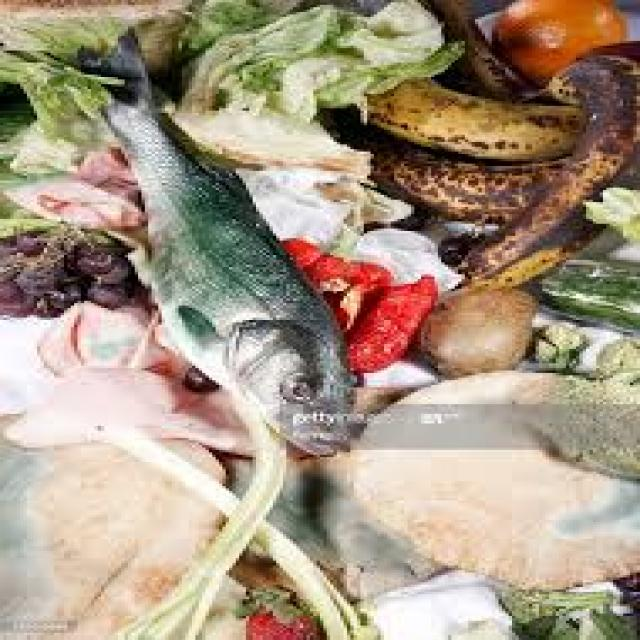organic waste: (74, 26, 347, 450), (344, 366, 636, 594), (0, 412, 226, 638), (158, 0, 462, 166), (118, 438, 357, 637), (451, 50, 637, 284), (0, 296, 249, 450), (323, 113, 573, 221), (3, 363, 266, 445), (340, 77, 583, 154), (0, 46, 111, 176), (417, 0, 552, 103), (0, 0, 202, 67), (344, 568, 508, 638), (492, 0, 623, 82), (418, 282, 539, 368), (344, 270, 441, 368), (0, 180, 131, 247), (532, 255, 637, 330), (492, 587, 626, 638), (492, 587, 620, 638), (10, 178, 138, 224), (236, 578, 316, 638), (10, 17, 118, 60), (576, 178, 637, 243), (330, 260, 387, 322), (175, 2, 273, 38), (569, 330, 637, 380), (74, 137, 131, 193), (562, 604, 636, 638), (526, 318, 580, 363), (10, 258, 67, 294), (566, 322, 616, 363), (603, 568, 637, 609), (303, 250, 340, 286), (0, 276, 37, 312), (77, 253, 128, 279), (434, 228, 478, 258), (276, 234, 317, 262), (81, 279, 128, 303), (178, 363, 216, 388), (44, 272, 74, 303), (24, 289, 61, 308), (10, 228, 37, 246), (0, 231, 10, 265)
